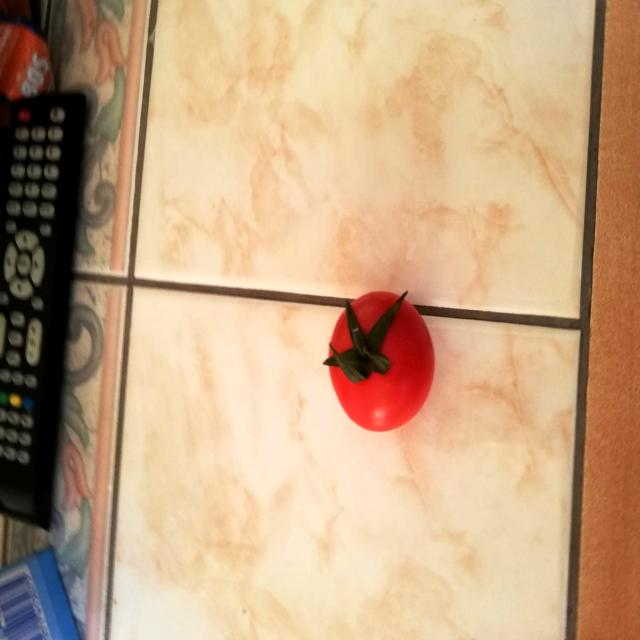tomato: (318, 279, 441, 439)
